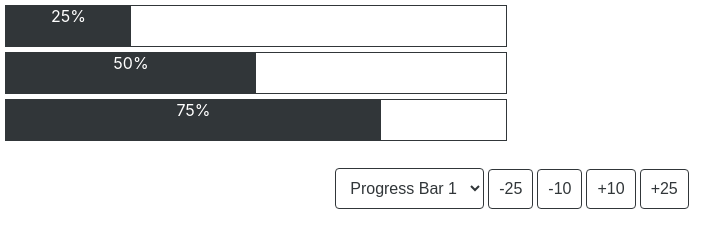
Test: progress bars should be allowed to go past 100% › should let progress bar one to go past 100%
Click the button "+25": (664, 189) 640,169 -> 689,209
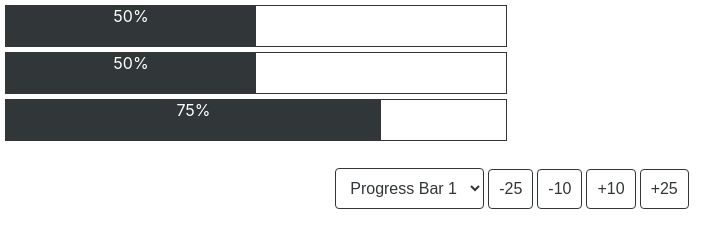
Click the button "+25": (664, 189) 640,169 -> 689,209
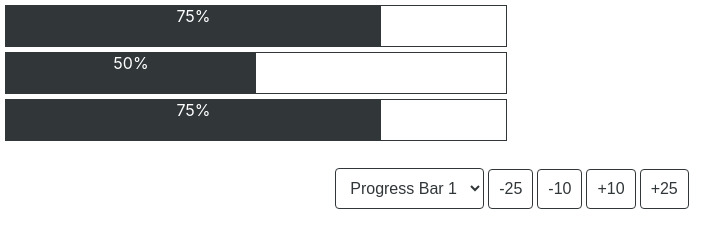
Click the button "+25": (664, 189) 640,169 -> 689,209
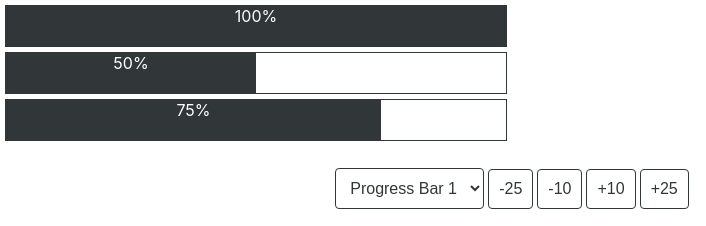
Click the button "+25": (664, 189) 640,169 -> 689,209
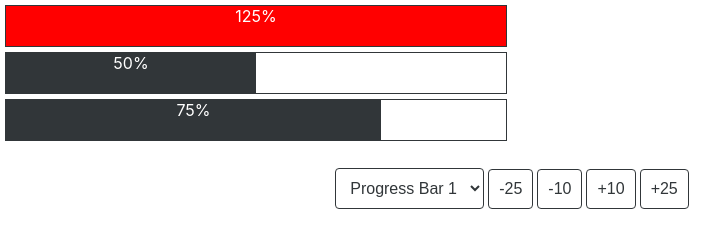
expect the text "25%" reads "125%": met, box 6,6 -> 506,46
